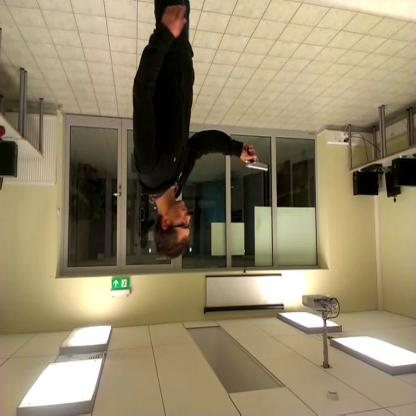Pistol: (238, 134, 274, 176)
